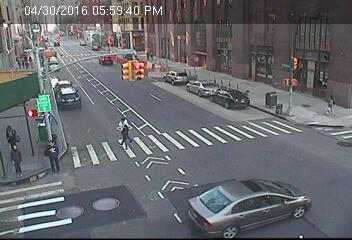neg: (265, 166, 315, 232), (49, 190, 81, 233), (180, 63, 211, 105), (184, 156, 215, 198), (234, 74, 264, 114), (6, 1, 33, 36), (118, 183, 145, 218), (141, 133, 167, 167), (200, 1, 225, 34), (234, 179, 258, 211), (238, 112, 262, 144), (85, 142, 109, 173), (176, 7, 197, 36), (139, 88, 160, 117), (143, 12, 164, 39), (64, 92, 84, 120), (178, 120, 196, 144), (202, 125, 220, 148), (44, 2, 58, 21), (100, 68, 112, 83), (50, 71, 61, 87), (49, 50, 60, 65), (82, 7, 91, 19), (72, 25, 76, 32)
pos: (35, 139, 62, 176), (1, 140, 28, 177), (322, 93, 342, 120), (116, 124, 136, 150), (116, 113, 134, 138), (26, 54, 37, 70), (143, 48, 153, 62), (147, 51, 157, 65), (23, 58, 32, 71), (14, 58, 23, 71), (18, 57, 26, 68)
